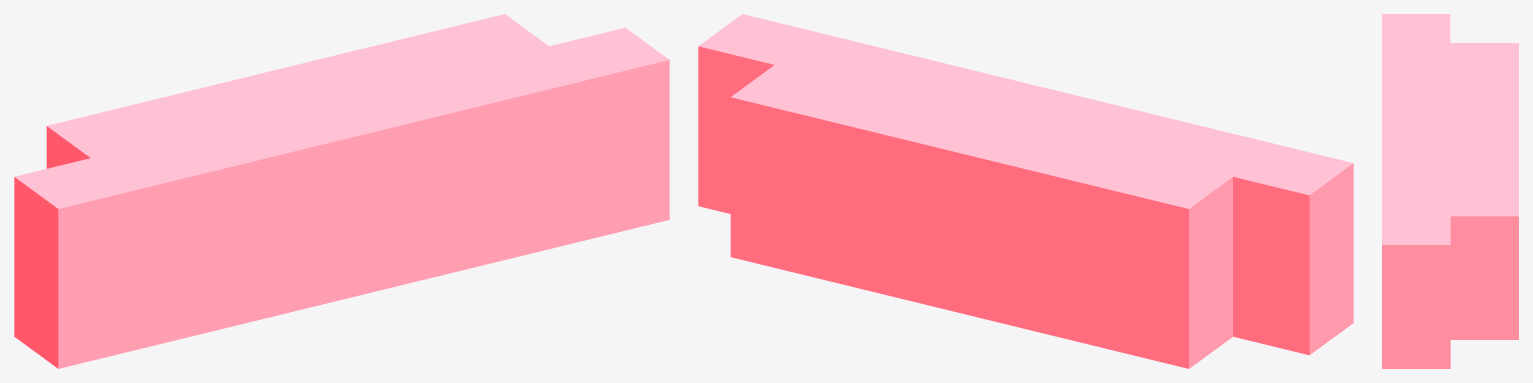
Rendered from AIPuck.glb.
3 renders of one model, left to right at view 1: azimuth 30°, elevation 25°; view 2: azimuth 150°, elevation 25°; view 3: azimuth 270°, elevation 25°, orthographic. The views are drawn at different scales.
Visible parts, largest first — view 1: AIPuck; view 2: AIPuck; view 3: AIPuck.
Boxes of the visible parts, <box> form: AIPuck: <box>14,14,669,368</box>; AIPuck: <box>698,14,1353,368</box>; AIPuck: <box>1382,14,1518,368</box>.
Size of the model in its own units: 0.8 by 0.2 by 0.2.
